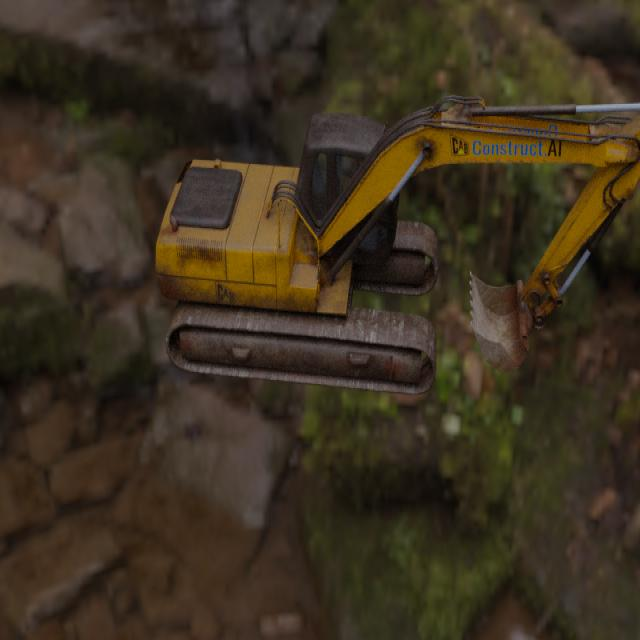excavator: (154, 93, 640, 395)
